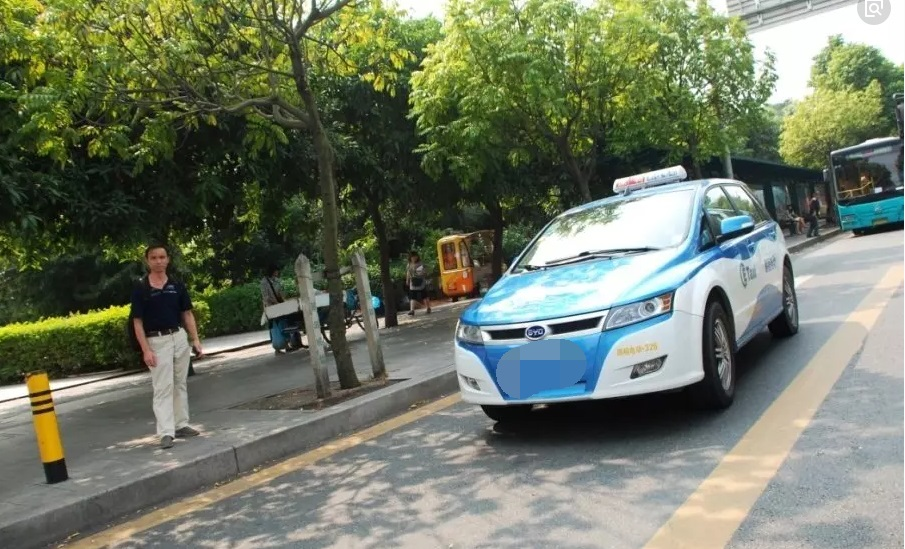taxi: (449, 166, 810, 429)
